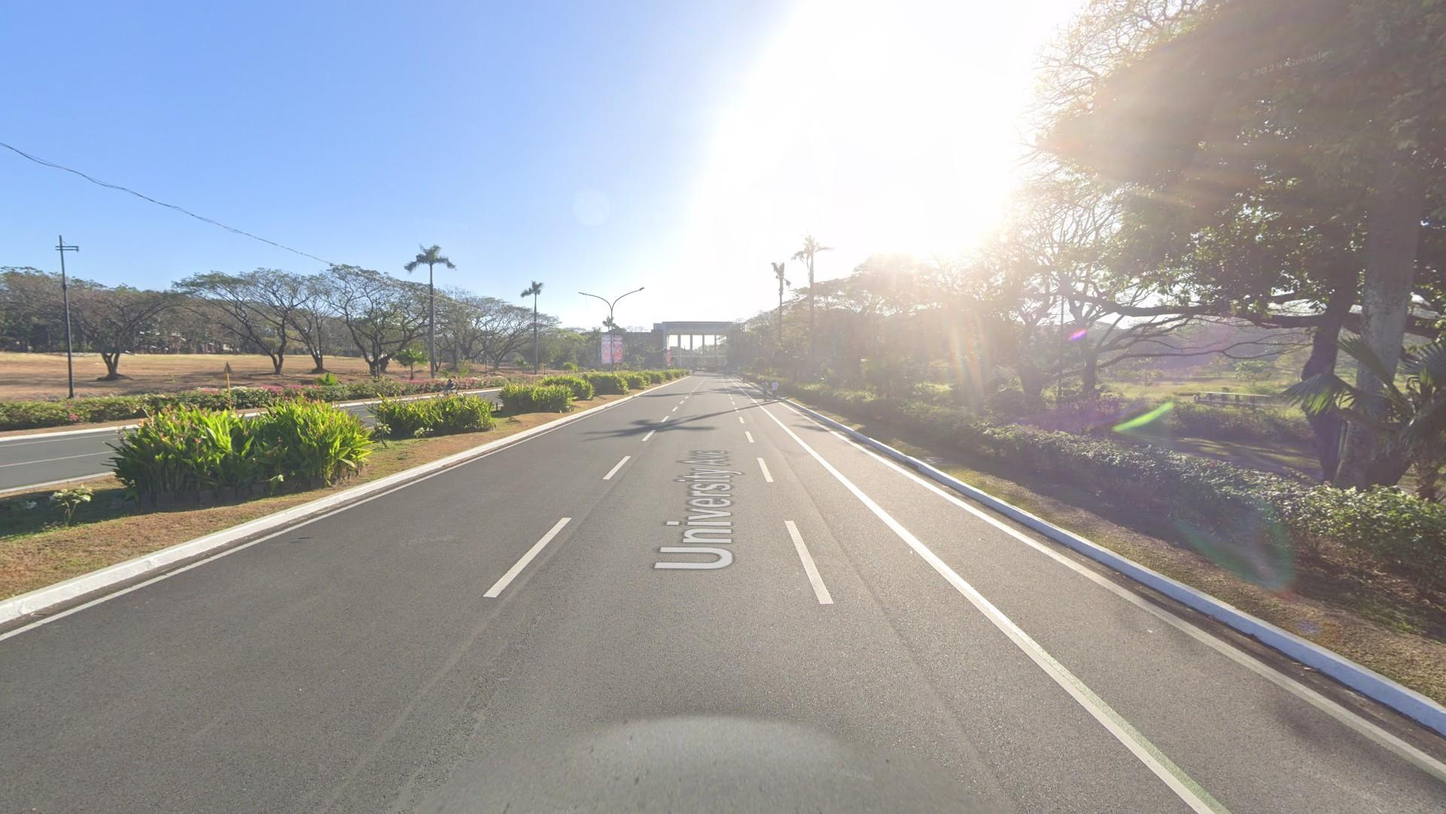pedestrian: (761, 379, 769, 402), (771, 380, 779, 401), (742, 372, 747, 385), (727, 369, 730, 377), (692, 367, 695, 375), (730, 369, 732, 378)
